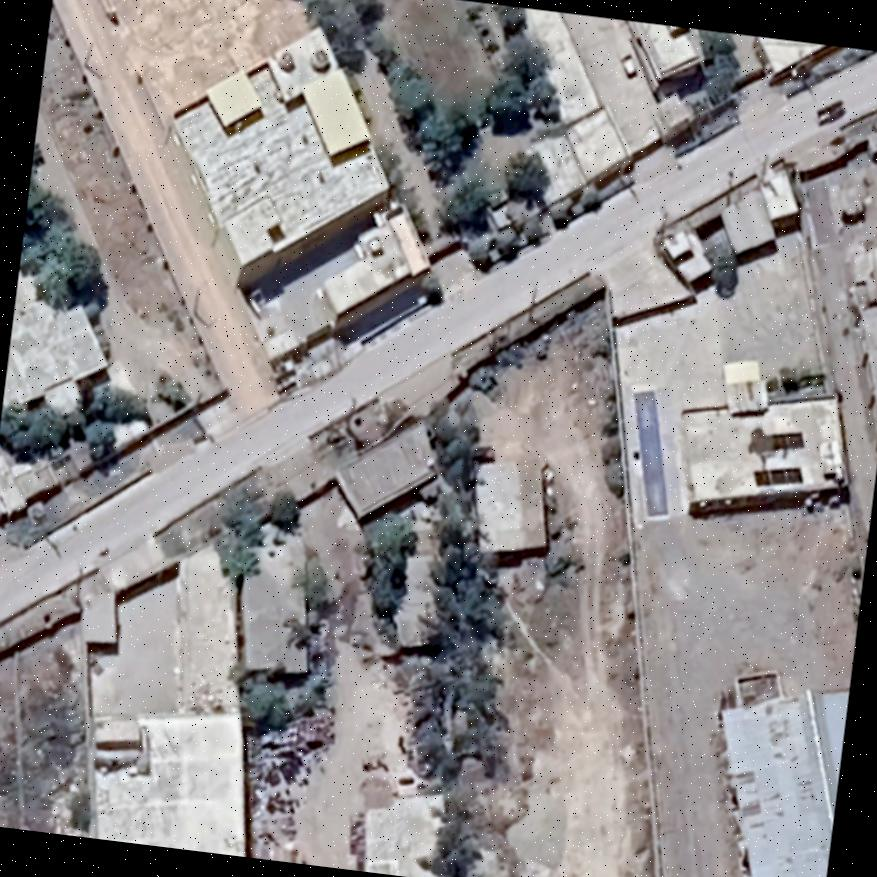Solarpanel: (750, 462, 808, 492), (747, 430, 809, 450)
